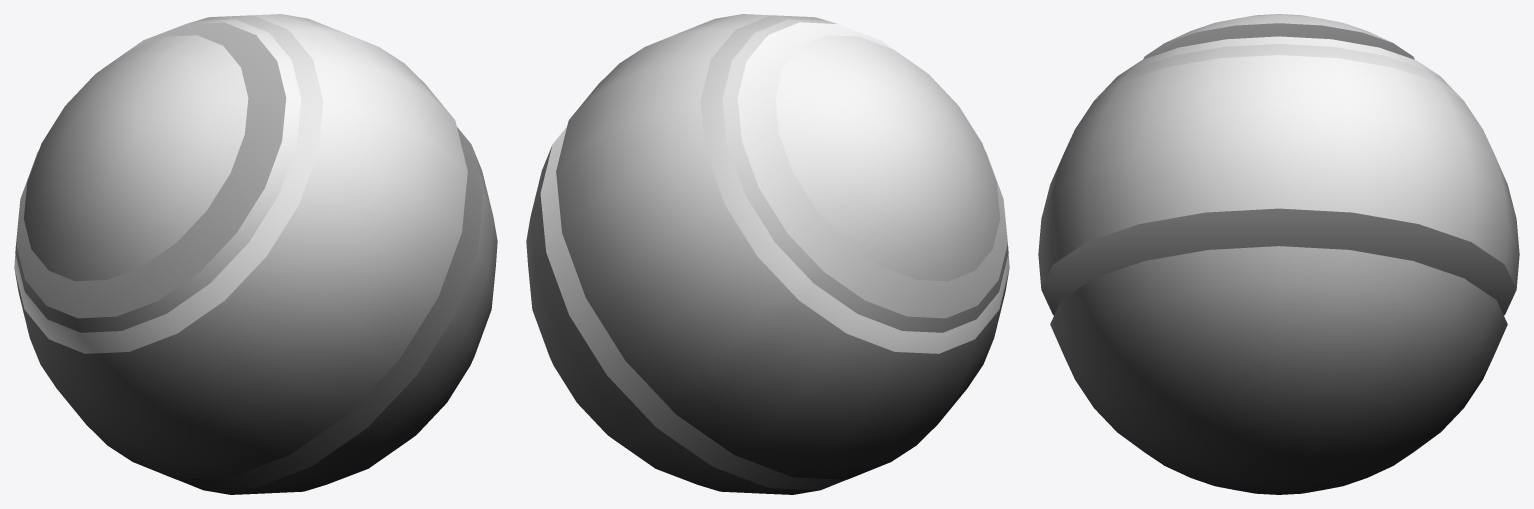
File: BG_twocut_sphere_ligned.fbx
The picture shows the model from 3 angles, left to right: view 1: azimuth 30°, elevation 25°; view 2: azimuth 150°, elevation 25°; view 3: azimuth 270°, elevation 25°; orthographic projection.
Visible parts, largest first — view 1: BG_twocut_sphere_ligned; view 2: BG_twocut_sphere_ligned; view 3: BG_twocut_sphere_ligned.
Boxes of the visible parts, x1=… form: BG_twocut_sphere_ligned: x1=14, y1=14, x2=497, y2=494; BG_twocut_sphere_ligned: x1=526, y1=14, x2=1009, y2=494; BG_twocut_sphere_ligned: x1=1038, y1=14, x2=1519, y2=494.
Bounding box in the file's own units: 4818 × 4818 × 4818.
